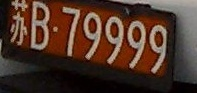B: (31, 1, 50, 50)
